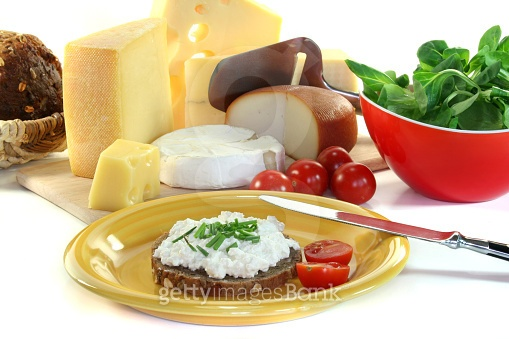chopped lettuce: (349, 23, 509, 135)
slice of bread: (149, 249, 301, 295), (4, 28, 60, 131)
